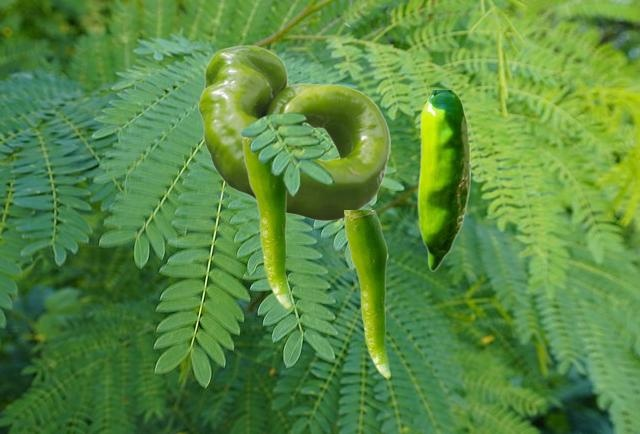green_chili: (198, 45, 389, 220), (417, 90, 469, 270), (242, 138, 290, 308), (344, 210, 389, 377)
